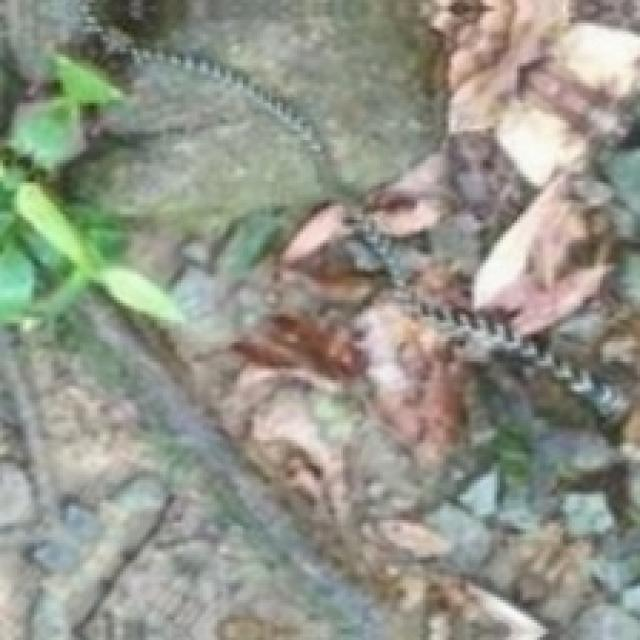king cobra: (134, 48, 361, 199), (395, 292, 630, 410), (350, 210, 410, 288)
